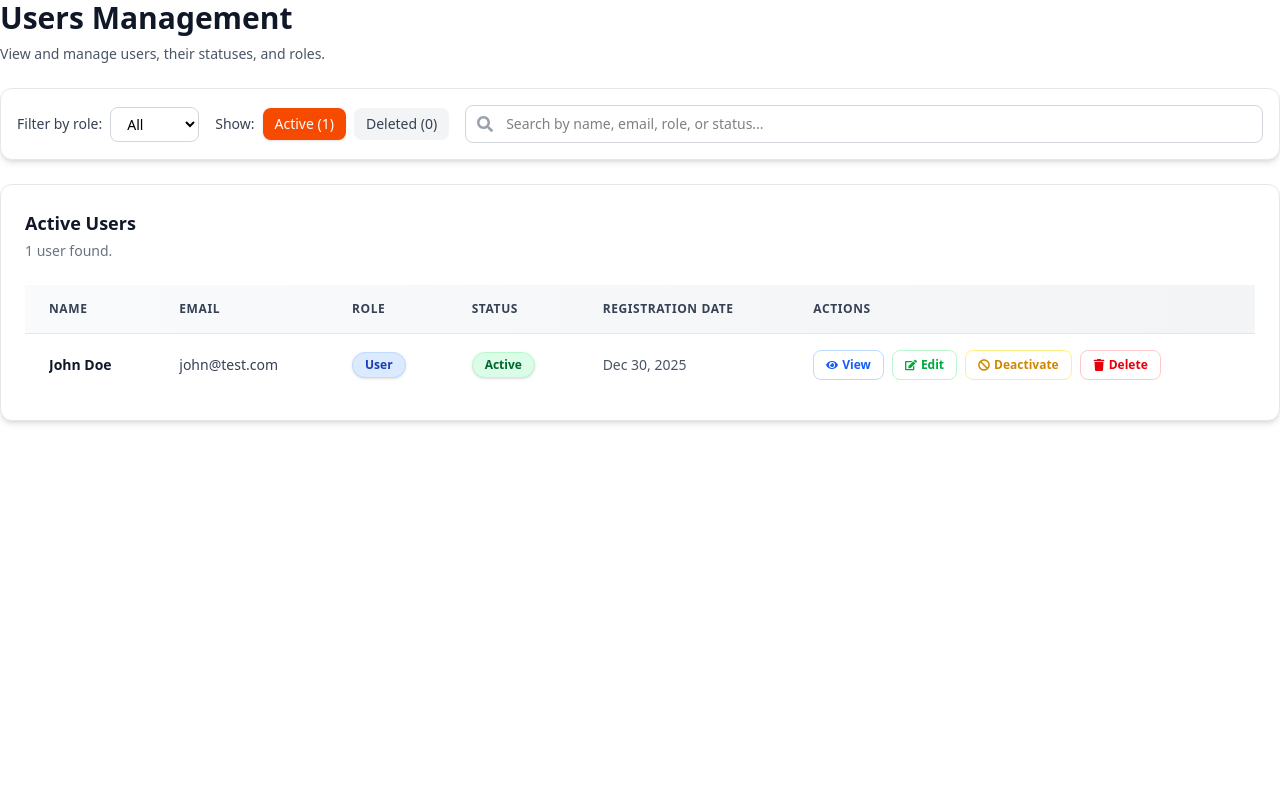
AdminUsers › opens edit modal when edit button is clicked
This screenshot has width=1280, height=800.
Step 1. Click the button "Edit" → (924, 365), box [892,350,957,380]
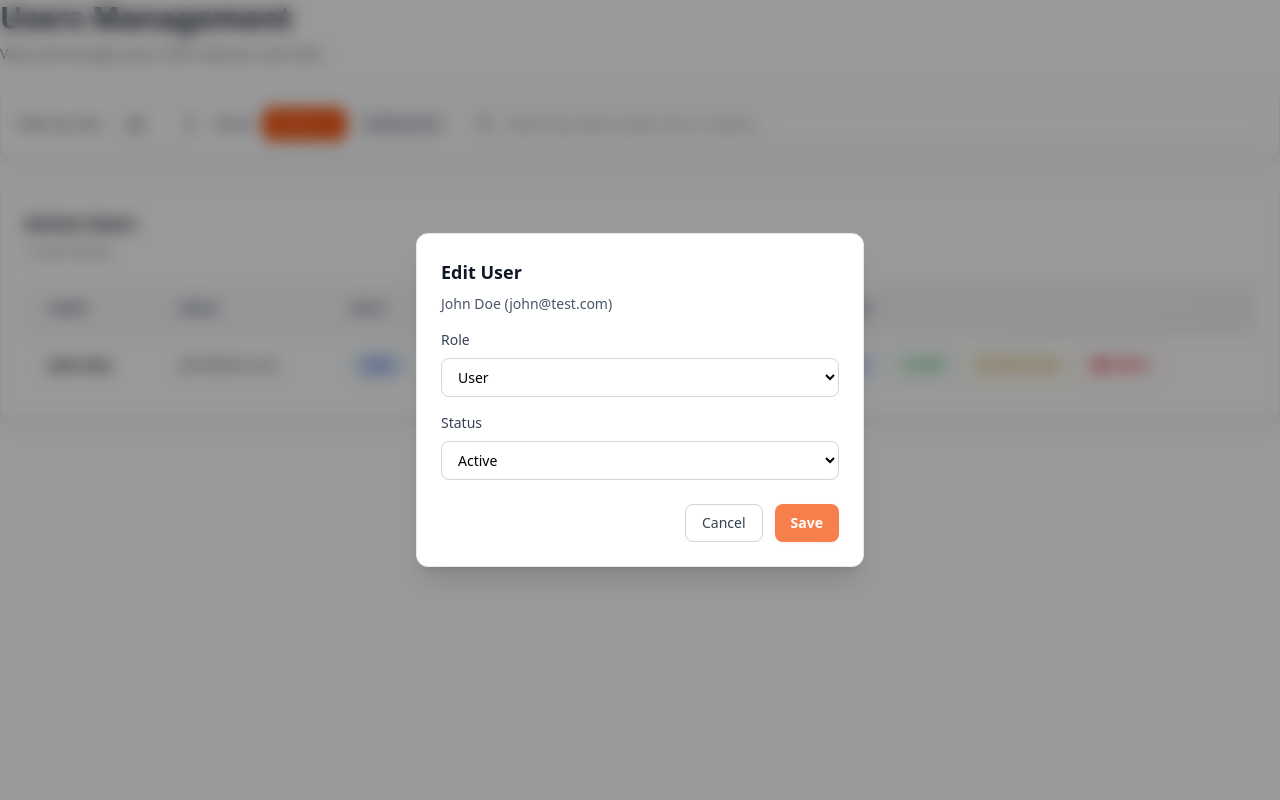
expect the heading "Edit User" is shown: met, box [441,260,522,284]
